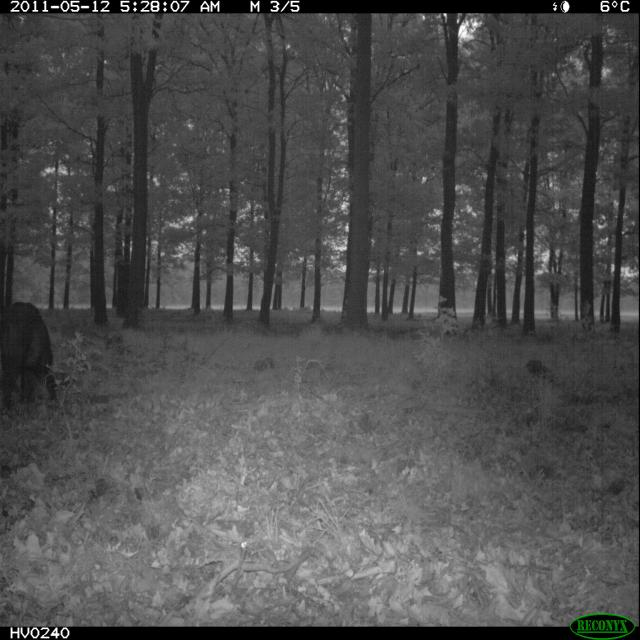boar: (0, 293, 73, 430)
